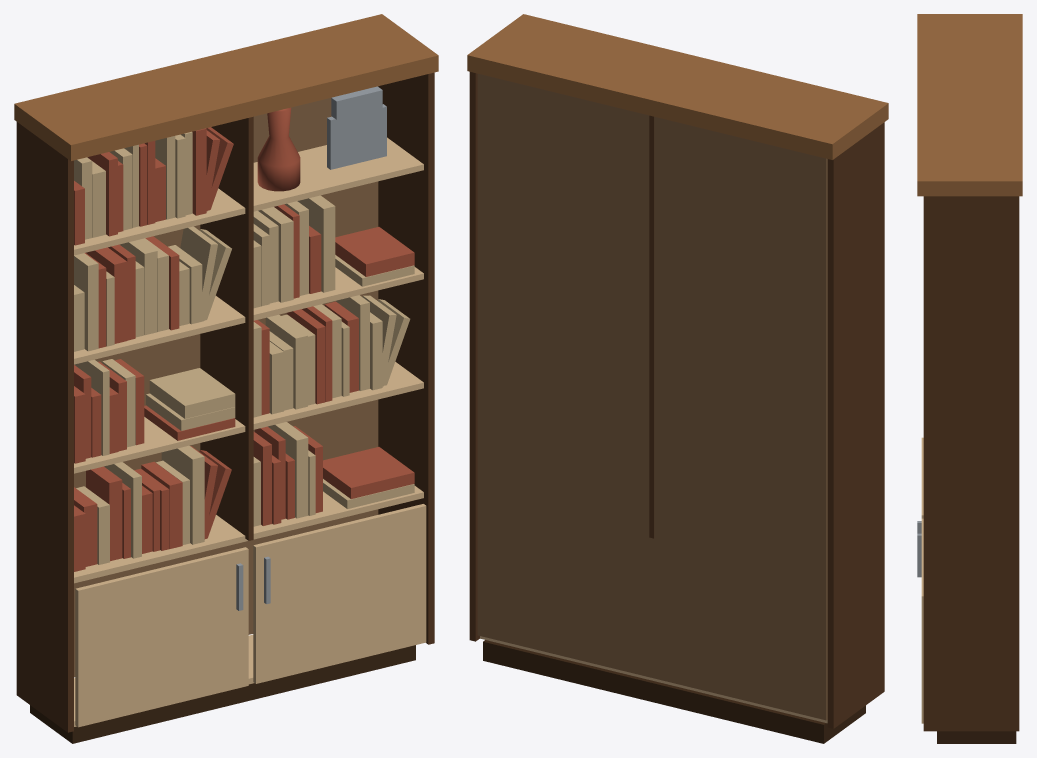
The model's file is bookcase.glb.
The picture shows the model from 3 angles, left to right: view 1: azimuth 30°, elevation 25°; view 2: azimuth 150°, elevation 25°; view 3: azimuth 270°, elevation 25°; orthographic projection. The views are drawn at different scales.
Visible parts, largest first — view 1: material-0-body, material-7-book, material-5-door, material-8-accent, material-4-top, material-2-shelf, material-3-interior, material-1-base, material-6-metal; view 2: material-3-interior, material-0-body, material-4-top, material-1-base, material-2-shelf; view 3: material-0-body, material-4-top, material-1-base, material-5-door, material-6-metal.
Boxes of the visible parts, x1=… form: material-0-body: x1=16, y1=72, x2=434, y2=732; material-7-book: x1=74, y1=131, x2=414, y2=564; material-5-door: x1=75, y1=504, x2=426, y2=727; material-8-accent: x1=74, y1=107, x2=414, y2=571; material-4-top: x1=14, y1=14, x2=438, y2=160; material-2-shelf: x1=74, y1=137, x2=423, y2=726; material-3-interior: x1=74, y1=98, x2=378, y2=677; material-1-base: x1=30, y1=645, x2=415, y2=743; material-6-metal: x1=236, y1=86, x2=386, y2=610; material-3-interior: x1=477, y1=74, x2=827, y2=720; material-0-body: x1=469, y1=72, x2=884, y2=728; material-4-top: x1=467, y1=14, x2=888, y2=159; material-1-base: x1=483, y1=640, x2=865, y2=743; material-2-shelf: x1=480, y1=636, x2=827, y2=723; material-0-body: x1=923, y1=196, x2=1019, y2=731; material-4-top: x1=917, y1=14, x2=1022, y2=196; material-1-base: x1=937, y1=731, x2=1016, y2=743; material-5-door: x1=921, y1=437, x2=923, y2=723; material-6-metal: x1=917, y1=521, x2=921, y2=577.
Bounding box in the file's own units: 1.2 × 1.9 × 0.32.
